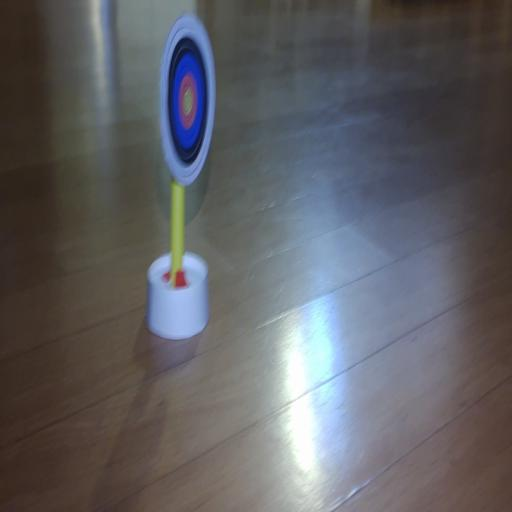target: (160, 14, 215, 184)
